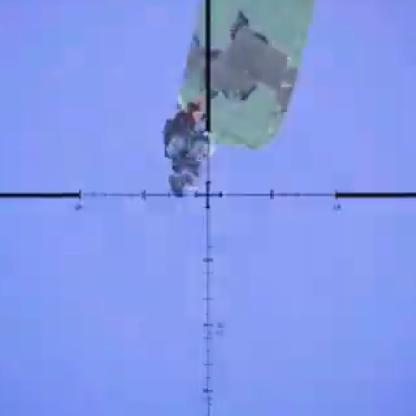enemy: (160, 100, 213, 199)
